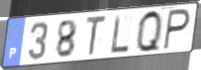3: (27, 20, 51, 63)
8: (55, 18, 79, 59)
L: (110, 14, 130, 56)
P: (161, 8, 192, 52)
Q: (136, 9, 163, 55)
T: (85, 14, 108, 58)
